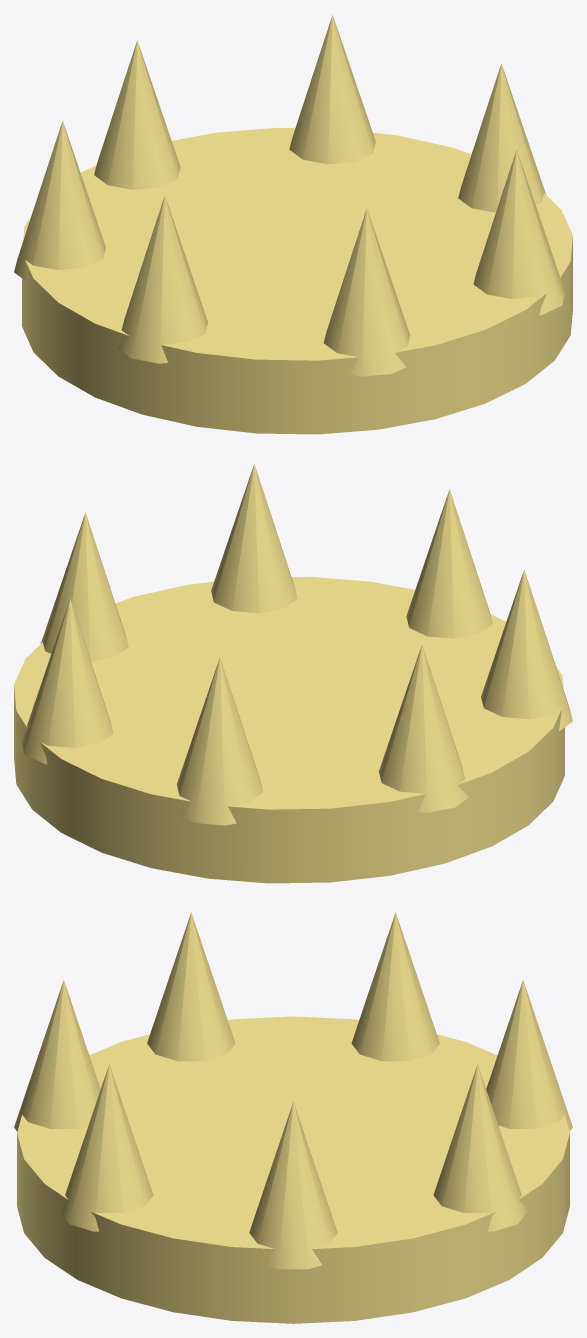
The model's file is acessorio-coroa.glb.
3 views of the same model, one above another, from view 1: azimuth 30°, elevation 25°; view 2: azimuth 150°, elevation 25°; view 3: azimuth 270°, elevation 25° (orthographic).
Parts seen in each view (by area): view 1: Aro, Ponta3, Ponta4, Ponta2, Ponta5, Ponta6, Ponta7, Ponta1; view 2: Aro, Ponta6, Ponta5, Ponta7, Ponta4, Ponta3, Ponta2, Ponta1; view 3: Aro, Ponta1, Ponta2, Ponta7, Ponta4, Ponta5, Ponta3, Ponta6.
Part boxes in pixels (left/top/right/bottom): Aro: left=22, top=127, right=572, bottom=434; Ponta3: left=323, top=208, right=410, bottom=376; Ponta4: left=118, top=195, right=207, bottom=363; Ponta2: left=473, top=150, right=565, bottom=315; Ponta5: left=14, top=121, right=105, bottom=282; Ponta6: left=94, top=40, right=180, bottom=189; Ponta7: left=289, top=15, right=375, bottom=164; Ponta1: left=458, top=63, right=545, bottom=212; Aro: left=14, top=576, right=564, bottom=883; Ponta6: left=176, top=657, right=263, bottom=825; Ponta5: left=379, top=644, right=468, bottom=812; Ponta7: left=21, top=599, right=113, bottom=764; Ponta4: left=481, top=570, right=572, bottom=731; Ponta3: left=406, top=489, right=492, bottom=638; Ponta2: left=211, top=464, right=297, bottom=613; Ponta1: left=41, top=512, right=128, bottom=661; Aro: left=17, top=1016, right=569, bottom=1323; Ponta1: left=249, top=1101, right=337, bottom=1269; Ponta2: left=59, top=1064, right=153, bottom=1231; Ponta7: left=433, top=1064, right=527, bottom=1231; Ponta4: left=147, top=912, right=235, bottom=1061; Ponta5: left=351, top=912, right=439, bottom=1061; Ponta3: left=14, top=980, right=100, bottom=1131; Ponta6: left=486, top=980, right=572, bottom=1131.
Bounding box in the file's own units: 1.23 × 0.5 × 1.23.
